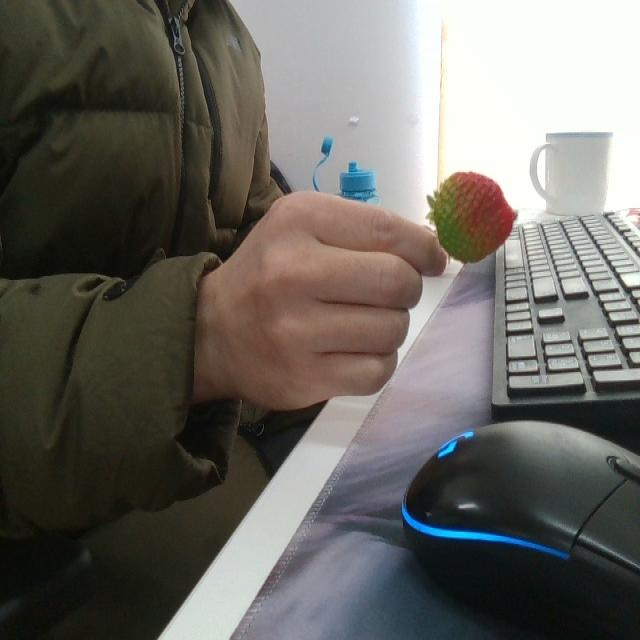mature: (430, 167, 516, 265)
